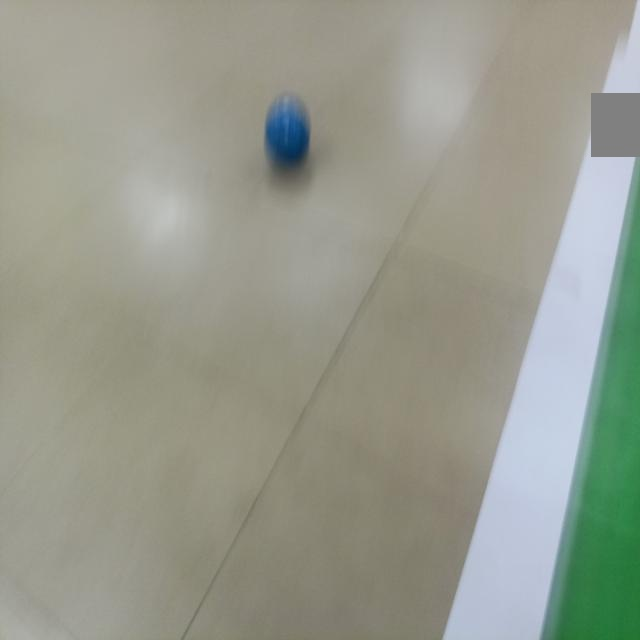blue_ball: (260, 98, 318, 176)
